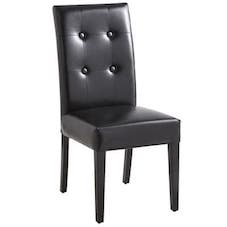chair: (28, 4, 197, 222)
